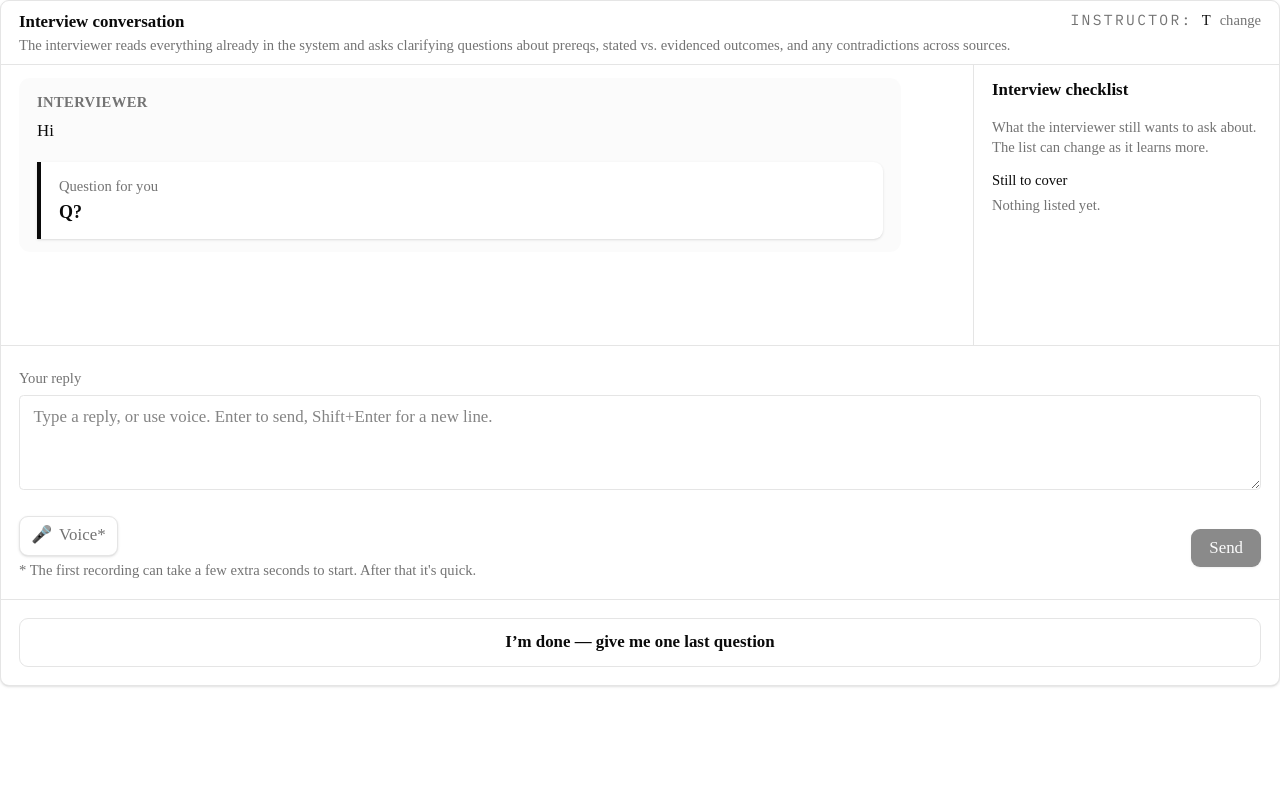
Test: CaptureChatPanel — credits exhausted › shows the friendly message, not the raw code, on a 503
Replace the text in the text box labelled "Your reply" with "my answer" at coordinates (640, 443), box [19,396,1261,490]
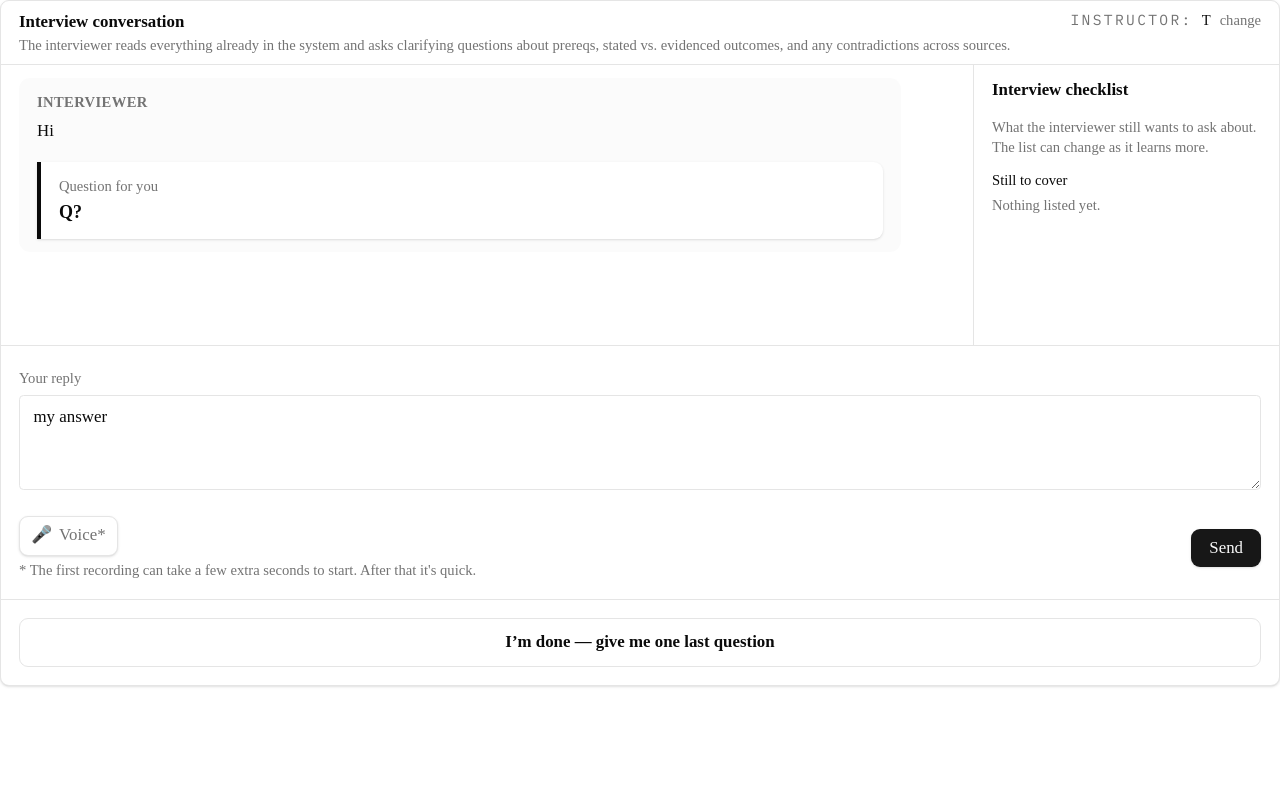
Click the button "Send" at coordinates (1226, 548), box [1191,529,1261,567]
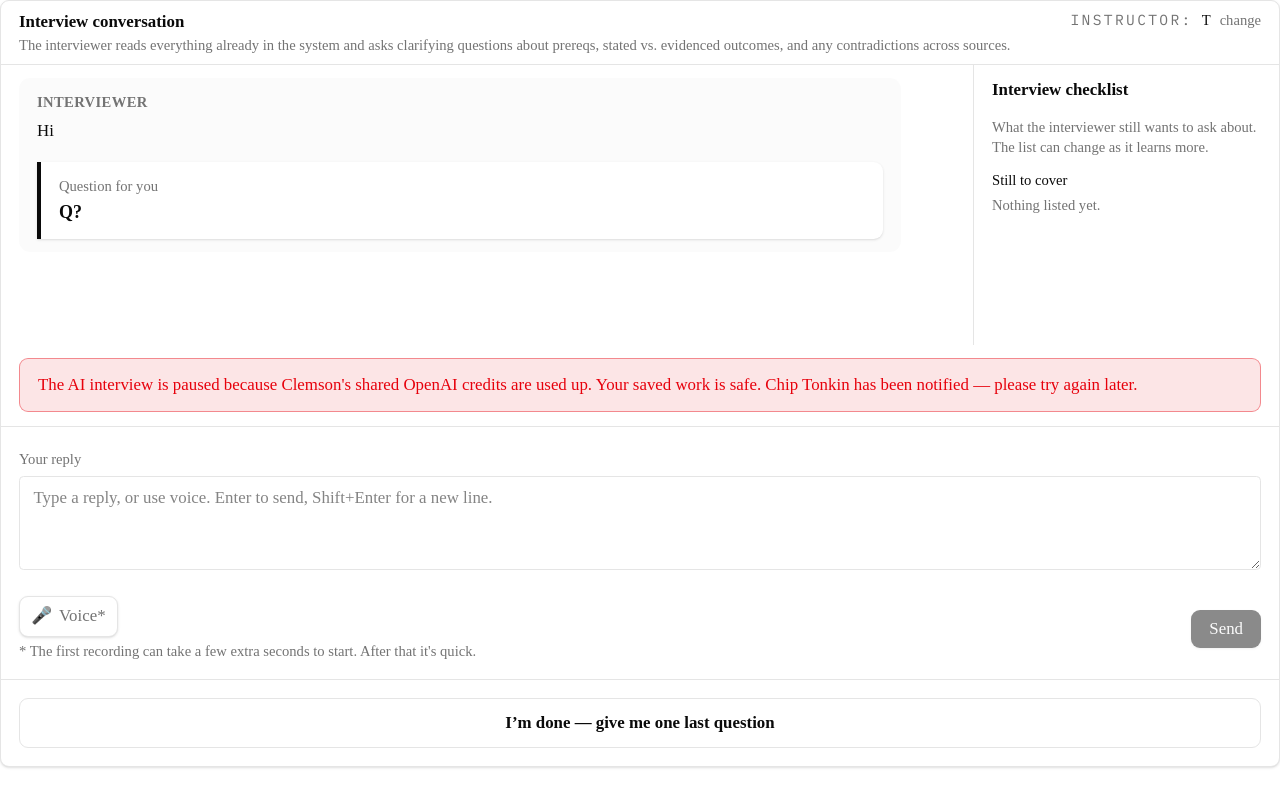
Now the message shows "The AI interview is paused because Clemson's shared OpenAI credits are used up. Your saved work is safe. Chip Tonkin has been notified — please try again later.", box [38,375,1138,394]
